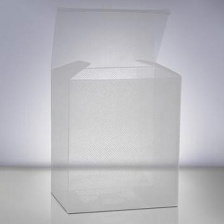plastic_box: (42, 0, 192, 219)
